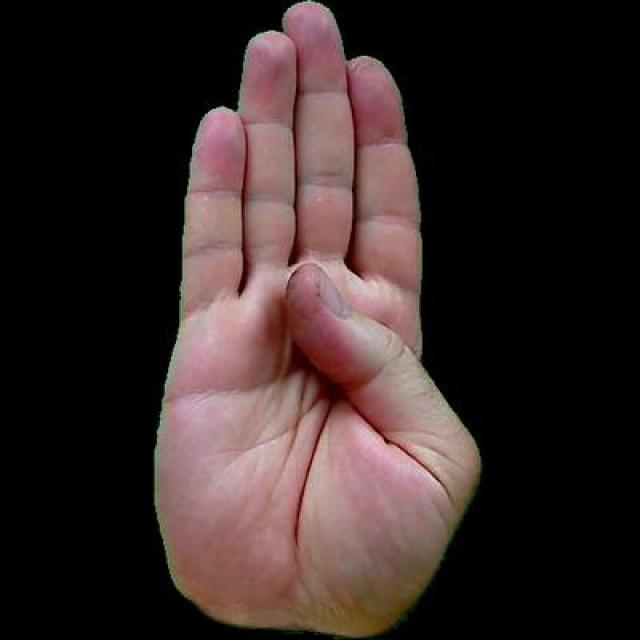b: (147, 0, 485, 637)
